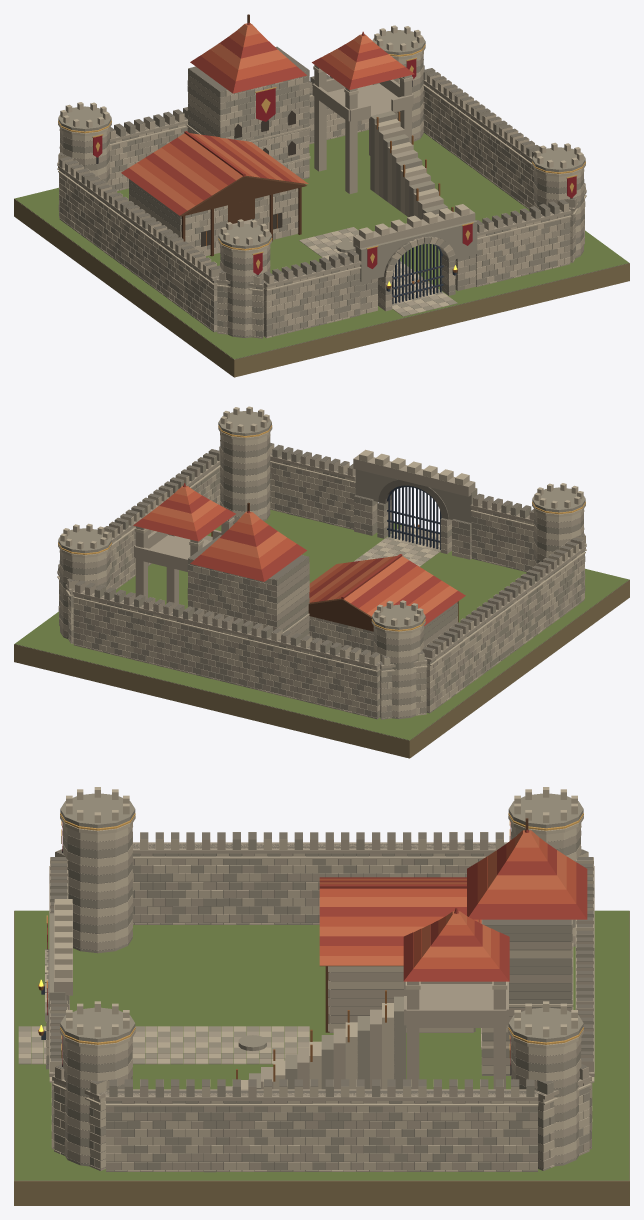
Rendered from stockade-nivel-6.glb.
The picture shows the model from 3 angles, top to bottom: view 1: azimuth 30°, elevation 25°; view 2: azimuth 150°, elevation 25°; view 3: azimuth 270°, elevation 25°; orthographic projection. The views are drawn at different scales.
Visible parts, largest first — view 1: stone_6_b1a38d, stone_6_c3b49a, stone_6_a09682, stone_6_738449, stone_6_8d7955, stone_6_9e4235, stone_6_82796a, stone_6_c66c49, stone_6_b9583c, stone_6_63422c, stone_6_992b31, right_6_3a424d.001 (+3 smaller); view 2: stone_6_b1a38d, stone_6_a09682, stone_6_c3b49a, stone_6_738449, stone_6_8d7955, stone_6_82796a, stone_6_9e4235, stone_6_b9583c, stone_6_c66c49, stone_6_63422c, right_6_3a424d.001, left_6_3a424d.001 (+1 smaller); view 3: stone_6_738449, stone_6_b1a38d, stone_6_c3b49a, stone_6_a09682, stone_6_82796a, stone_6_8d7955, stone_6_9e4235, stone_6_b9583c, stone_6_c66c49, stone_6_dba85a.
Part boxes in pixels (box(x1,y1,x2,y2)): stone_6_b1a38d: box(57, 55, 586, 338); stone_6_c3b49a: box(57, 25, 586, 338); stone_6_a09682: box(58, 30, 585, 337); stone_6_738449: box(14, 130, 628, 359); stone_6_8d7955: box(14, 199, 629, 377); stone_6_9e4235: box(121, 22, 414, 215); stone_6_82796a: box(15, 46, 629, 359); stone_6_c66c49: box(129, 23, 396, 210); stone_6_b9583c: box(137, 30, 404, 205); stone_6_63422c: box(180, 175, 306, 256); stone_6_992b31: box(93, 59, 576, 274); right_6_3a424d.001: box(415, 244, 443, 298); stone_6_b1a38d: box(57, 436, 586, 718); stone_6_a09682: box(58, 411, 585, 719); stone_6_c3b49a: box(57, 406, 586, 716); stone_6_738449: box(15, 509, 628, 740); stone_6_8d7955: box(14, 580, 629, 758); stone_6_82796a: box(14, 443, 629, 740); stone_6_9e4235: box(133, 483, 465, 625); stone_6_b9583c: box(142, 491, 449, 613); stone_6_c66c49: box(151, 486, 457, 616); stone_6_63422c: box(308, 598, 458, 631); right_6_3a424d.001: box(387, 485, 415, 542); left_6_3a424d.001: box(414, 487, 441, 549); stone_6_738449: box(14, 910, 629, 1180); stone_6_b1a38d: box(18, 828, 594, 1171); stone_6_c3b49a: box(18, 787, 594, 1171); stone_6_a09682: box(18, 793, 594, 1172); stone_6_82796a: box(14, 832, 629, 1180); stone_6_8d7955: box(14, 911, 629, 1205); stone_6_9e4235: box(319, 829, 587, 981); stone_6_b9583c: box(319, 837, 576, 968); stone_6_c66c49: box(319, 830, 566, 965); stone_6_dba85a: box(46, 813, 583, 1058).
Bounding box in the file's own units: 32.8 × 14.27 × 31.6.
